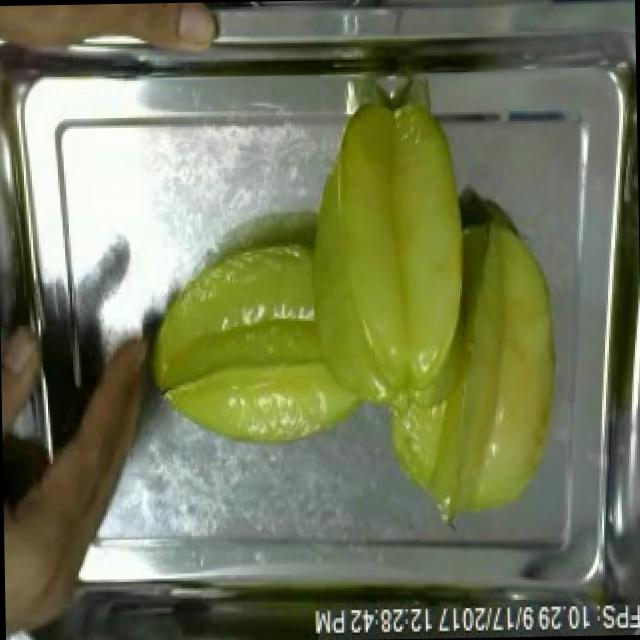fruit: (126, 213, 472, 468), (380, 197, 576, 540), (0, 1, 227, 72), (0, 314, 56, 469)
